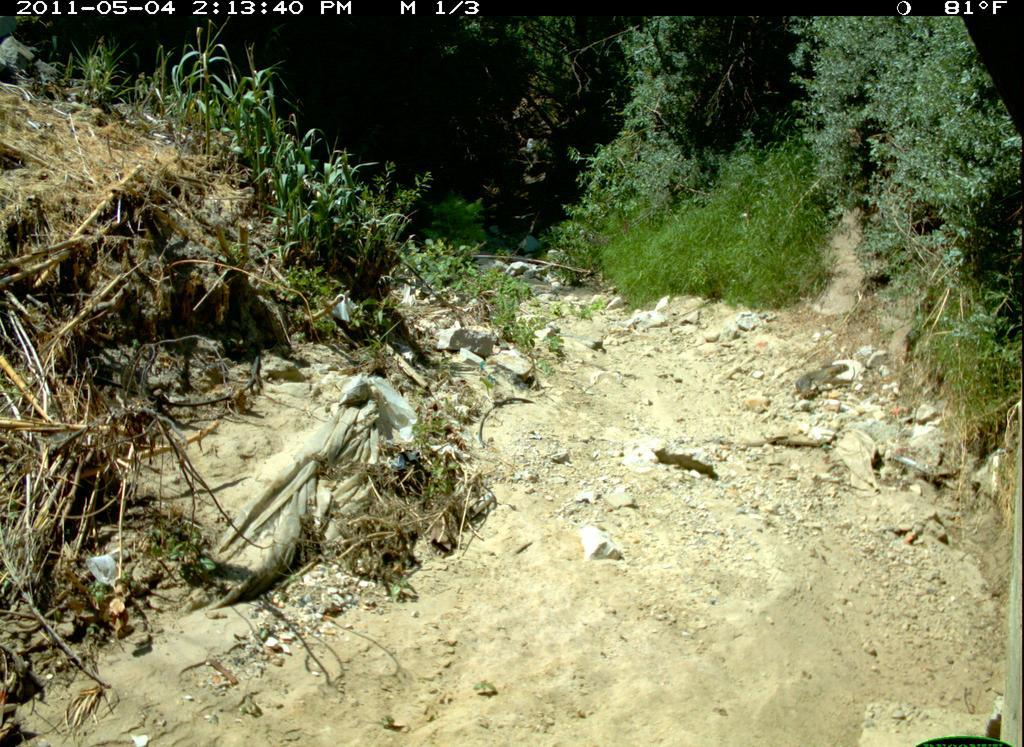rabbit: (793, 345, 857, 414)
